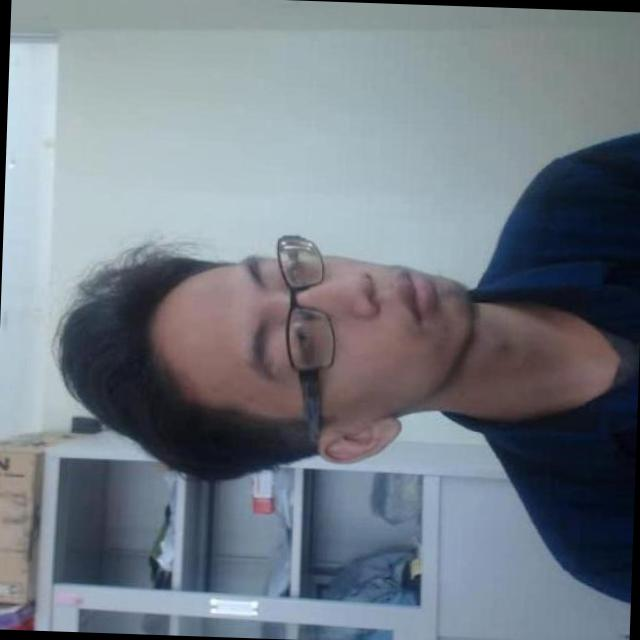bareface: (112, 231, 474, 488)
